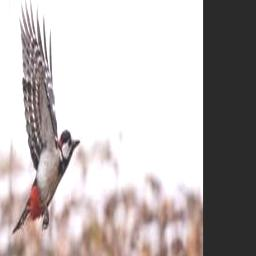Woodpecker: (12, 0, 80, 237)
